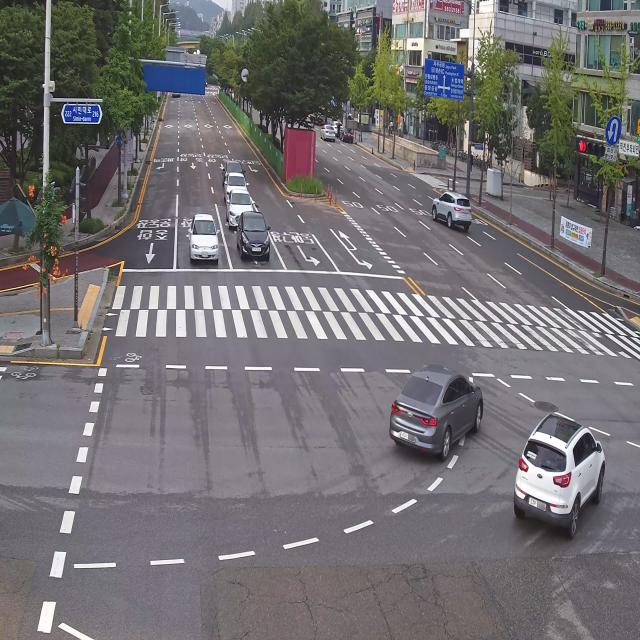Car: (507, 389, 608, 565), (374, 351, 495, 477), (174, 190, 232, 282), (426, 176, 478, 247), (231, 200, 271, 272), (223, 188, 254, 222), (321, 121, 341, 153), (221, 174, 250, 195), (220, 160, 246, 182), (341, 125, 354, 146), (332, 118, 346, 136)
